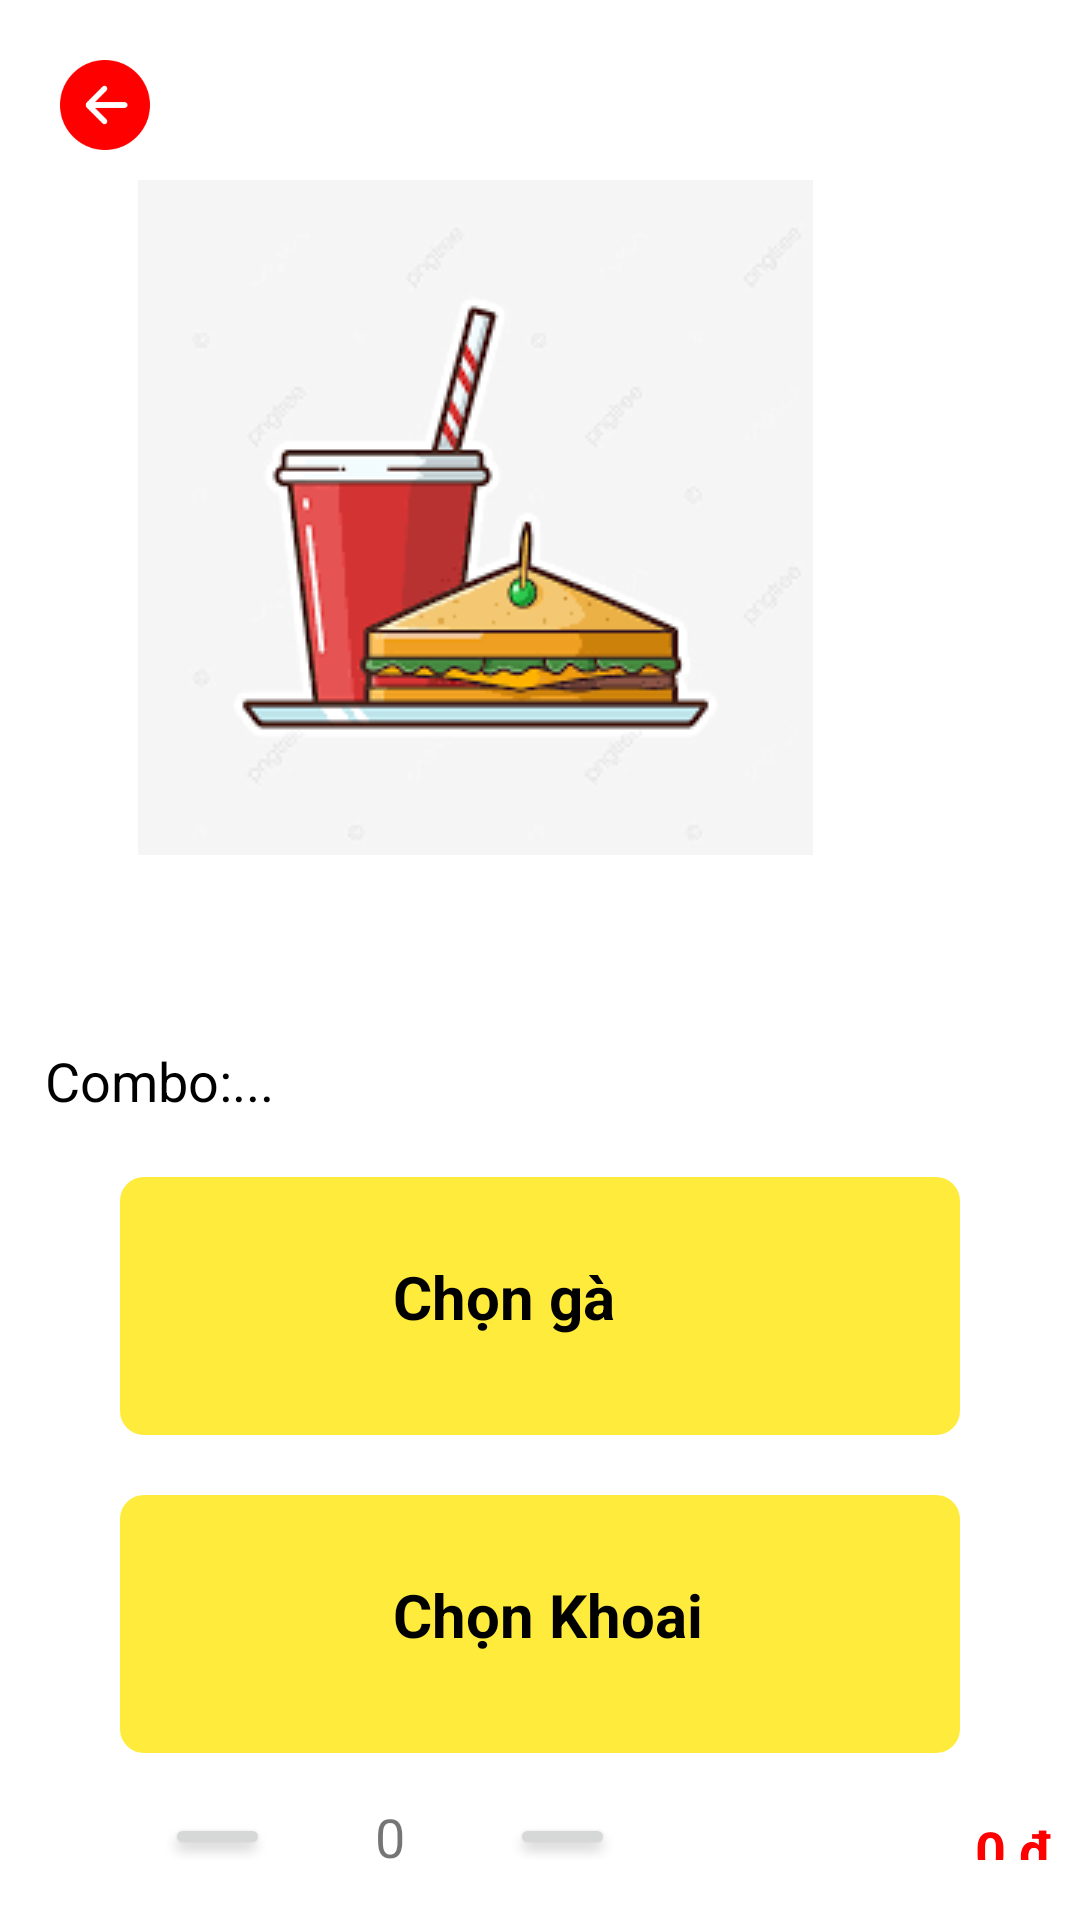

Icon bounding boxes for this 1080x1920 phone screenshot, format (x1, y1, x2, y2):
back: (60, 60, 150, 150)
